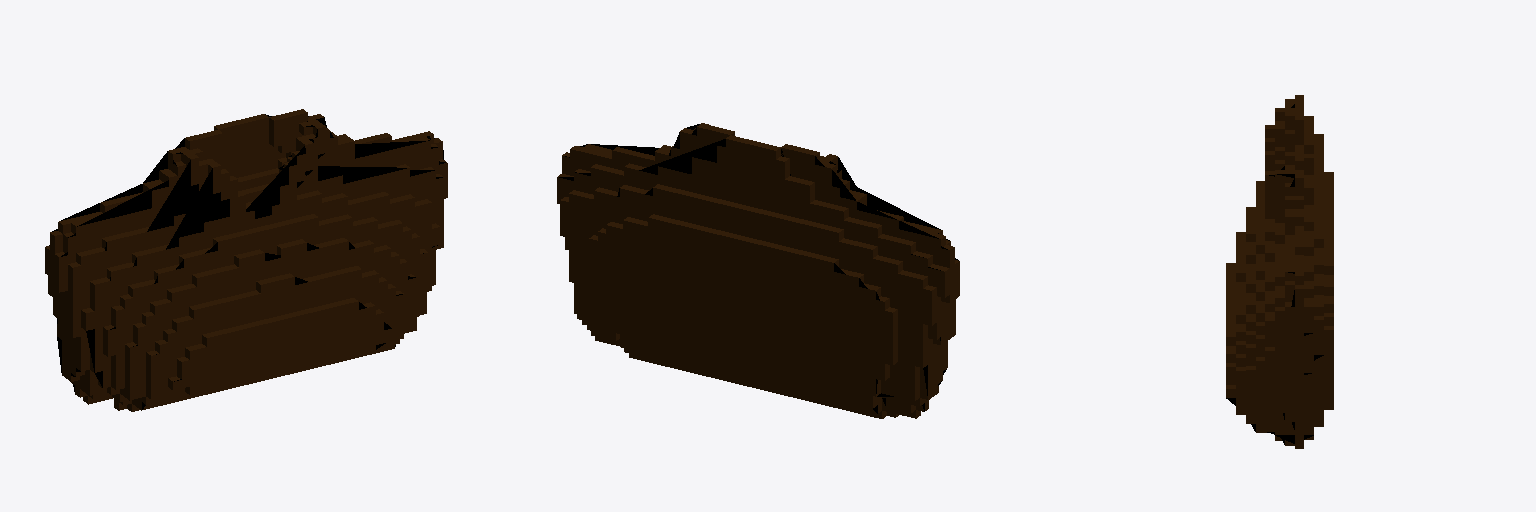
3 views of the same model, side by side, from view 1: azimuth 30°, elevation 25°; view 2: azimuth 150°, elevation 25°; view 3: azimuth 270°, elevation 25° (orthographic).
Parts seen in each view (by area): view 1: Shirt_Tunic_Pickup; view 2: Shirt_Tunic_Pickup; view 3: Shirt_Tunic_Pickup.
Part boxes in pixels (x1,y1,x2,y2): Shirt_Tunic_Pickup: (45, 109, 447, 411); Shirt_Tunic_Pickup: (557, 123, 959, 418); Shirt_Tunic_Pickup: (1226, 95, 1333, 448).
Bounding box in the file's own units: 0.46 × 0.28 × 0.11.
Materials: 1 (1 with a texture image).